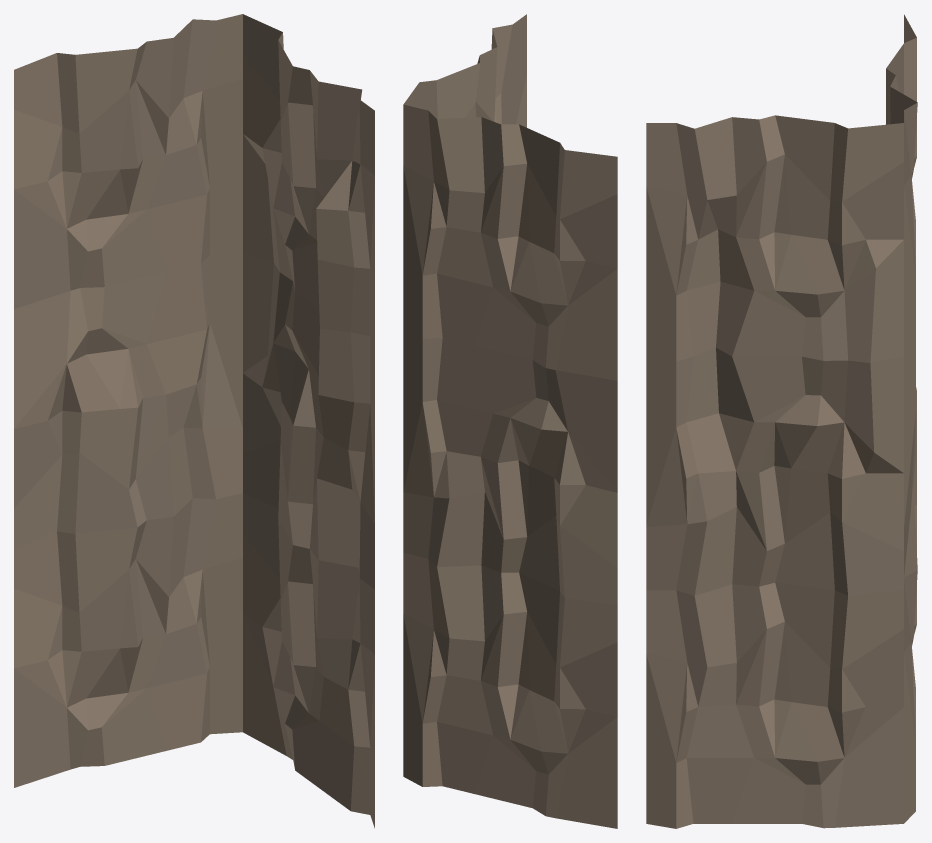
File: ER_Terrain_3x1_Dirt_CornerInverted_001_B.fbx
The picture shows the model from 3 angles, left to right: view 1: azimuth 30°, elevation 25°; view 2: azimuth 150°, elevation 25°; view 3: azimuth 270°, elevation 25°; orthographic projection. The views are drawn at different scales.
Parts seen in each view (by area): view 1: ER_Terrain_3x1_Dirt_CornerInverted_001_B; view 2: ER_Terrain_3x1_Dirt_CornerInverted_001_B; view 3: ER_Terrain_3x1_Dirt_CornerInverted_001_B.
Boxes of the visible parts, x1,y1,x2,y2 form: ER_Terrain_3x1_Dirt_CornerInverted_001_B: (14,14,374,828); ER_Terrain_3x1_Dirt_CornerInverted_001_B: (403,14,617,828); ER_Terrain_3x1_Dirt_CornerInverted_001_B: (646,14,917,828).
Size of the model in its own units: 1.06 by 3 by 1.05.
